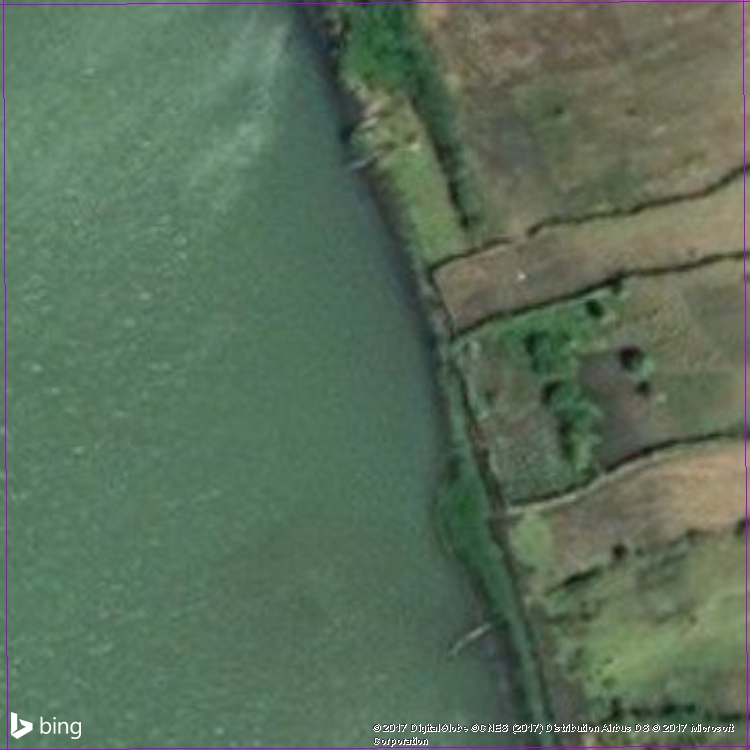boat: (439, 609, 510, 668), (327, 140, 410, 185), (338, 104, 398, 142)
